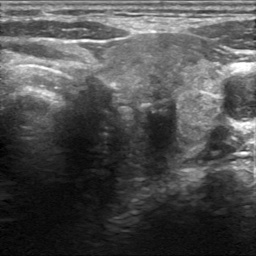mass: (139, 77, 177, 144)
